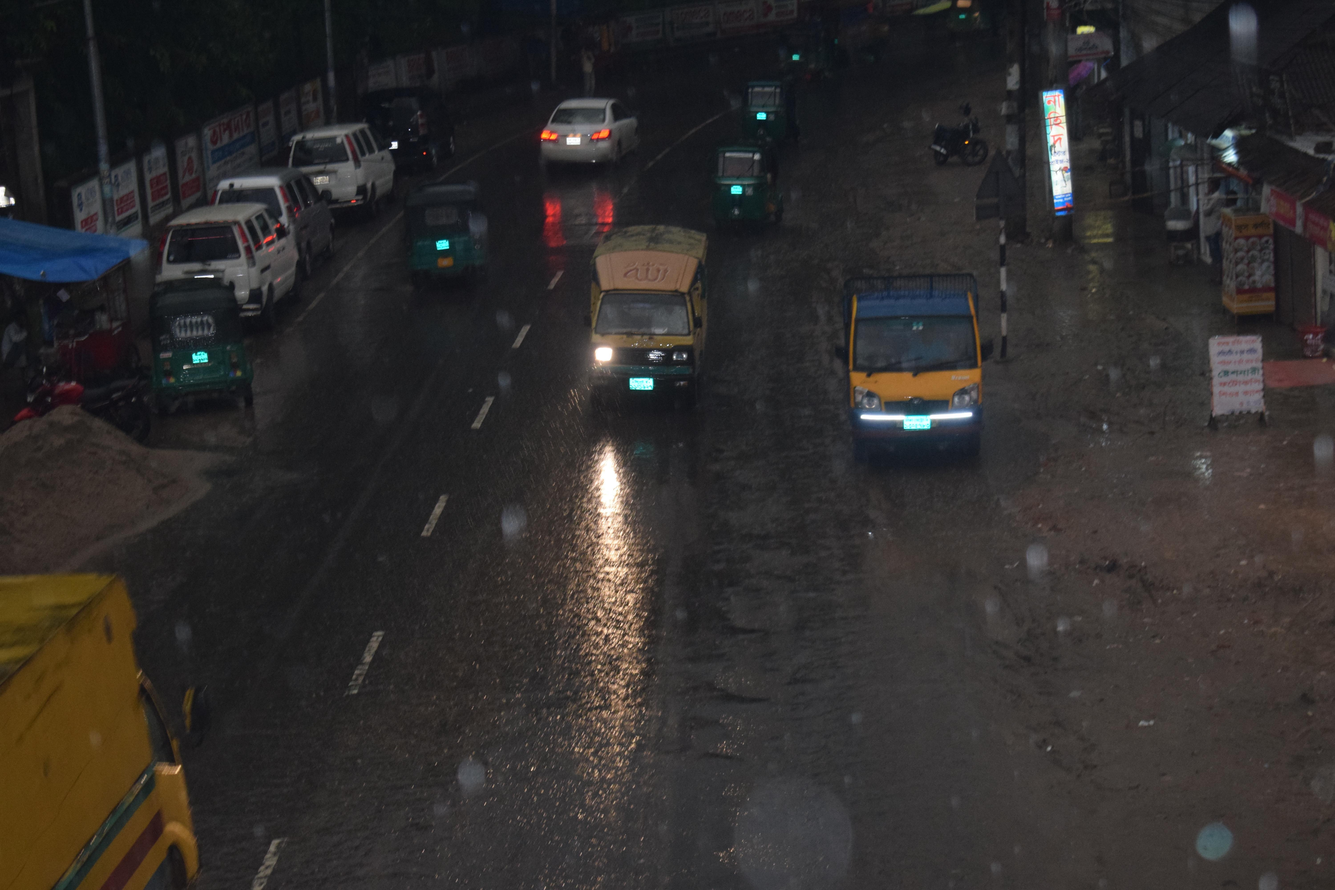Car: (560, 204, 754, 437), (156, 192, 313, 331), (266, 100, 416, 231), (199, 158, 352, 284), (523, 82, 662, 177), (357, 86, 477, 178)
Truck: (0, 524, 306, 890), (816, 231, 1018, 505)
